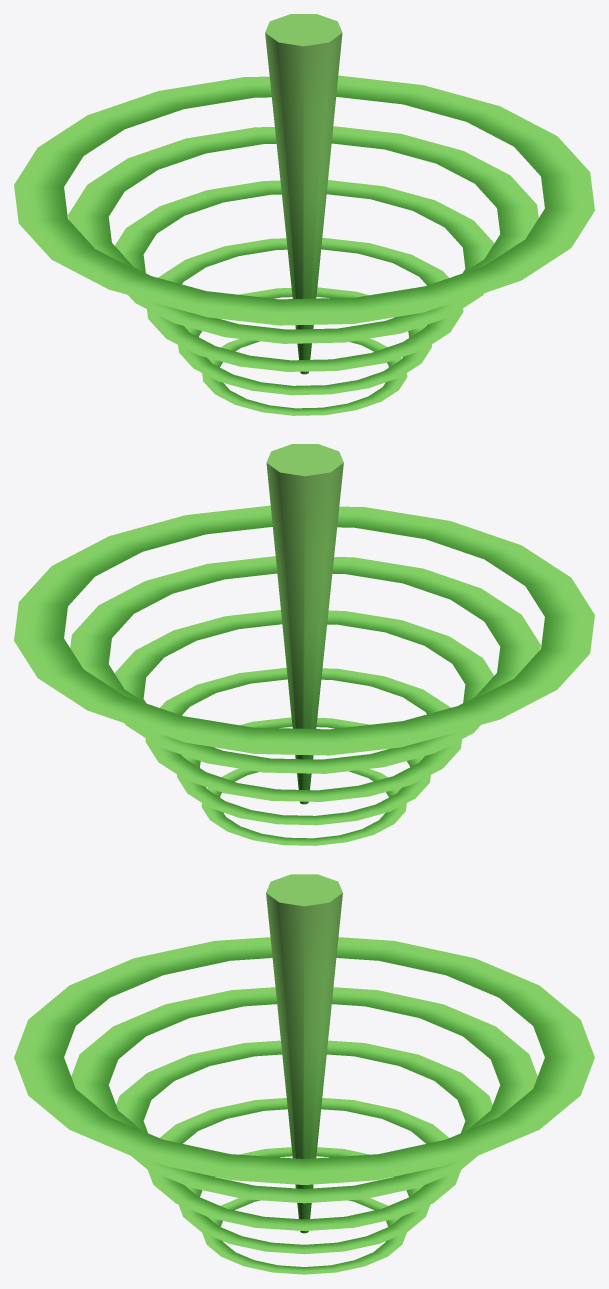
The model's file is arrowAnimation07.fbx.
3 renders of one model, top to bottom at view 1: azimuth 30°, elevation 25°; view 2: azimuth 150°, elevation 25°; view 3: azimuth 270°, elevation 25°, orthographic.
Parts seen in each view (by area): view 1: frame1, Circle, frame2, frame3, frame4, frame5, frame6; view 2: frame1, Circle, frame2, frame3, frame4, frame5, frame6; view 3: frame1, Circle, frame2, frame3, frame4, frame5, frame6.
Part boxes in pixels (bbox=[...]): frame1: bbox=[14, 75, 594, 320]; Circle: bbox=[265, 14, 342, 374]; frame2: bbox=[68, 126, 538, 325]; frame3: bbox=[115, 180, 494, 343]; frame4: bbox=[147, 237, 463, 371]; frame5: bbox=[178, 287, 431, 395]; frame6: bbox=[202, 328, 407, 415]; frame1: bbox=[14, 505, 594, 750]; Circle: bbox=[266, 444, 343, 804]; frame2: bbox=[70, 556, 540, 755]; frame3: bbox=[114, 610, 493, 773]; frame4: bbox=[145, 667, 461, 801]; frame5: bbox=[177, 717, 430, 825]; frame6: bbox=[201, 758, 406, 845]; frame1: bbox=[14, 937, 594, 1180]; Circle: bbox=[266, 874, 342, 1233]; frame2: bbox=[71, 987, 537, 1184]; frame3: bbox=[116, 1040, 492, 1203]; frame4: bbox=[148, 1098, 460, 1230]; frame5: bbox=[179, 1147, 429, 1254]; frame6: bbox=[202, 1198, 406, 1274].
Size of the model in its own units: 0.0349 by 0.0226 by 0.0349.
